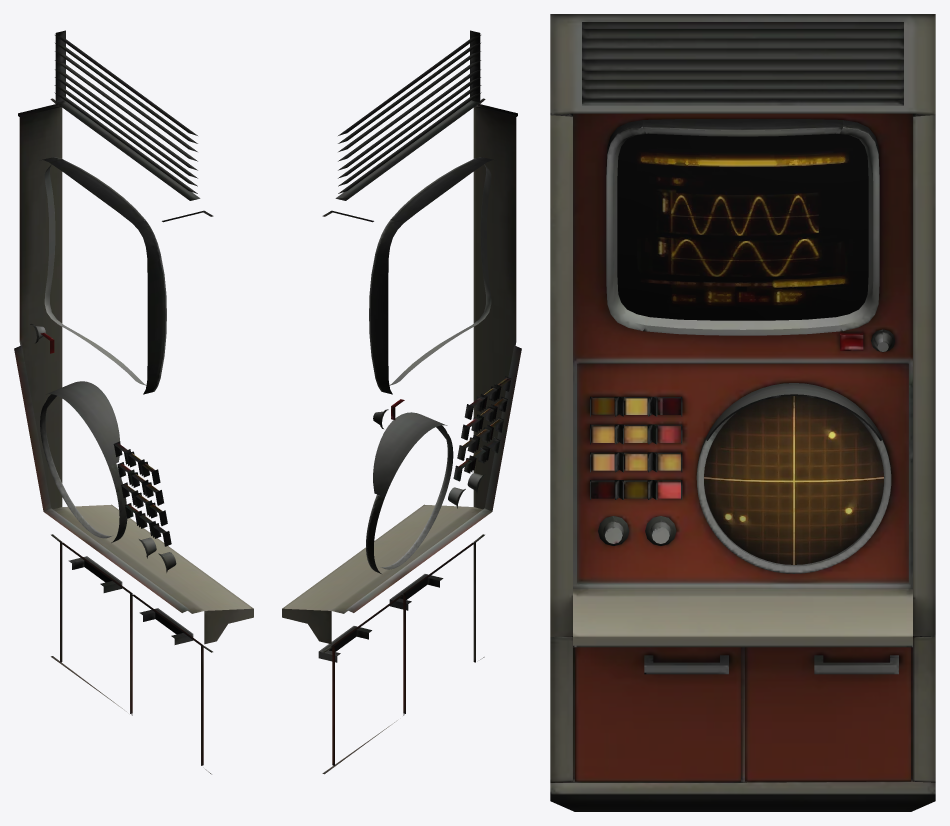
3 renders of one model, left to right at view 1: azimuth 30°, elevation 25°; view 2: azimuth 150°, elevation 25°; view 3: azimuth 270°, elevation 25°, orthographic. The views are drawn at different scales.
Visible parts, largest first — view 1: body0_model0_lod0_mesh0; view 2: body0_model0_lod0_mesh0; view 3: body0_model0_lod0_mesh0, body0_model0_lod0_mesh2, body0_model0_lod0_mesh1.
Part boxes in pixels (x1,y1,x2,y2): body0_model0_lod0_mesh0: (14, 30, 253, 774); body0_model0_lod0_mesh0: (282, 30, 521, 774); body0_model0_lod0_mesh0: (550, 14, 935, 811); body0_model0_lod0_mesh2: (617, 133, 868, 320); body0_model0_lod0_mesh1: (704, 396, 883, 564).
Bounding box in the file's own units: 17.16 × 112 × 47.99.
Materials: 3 (3 with a texture image).
